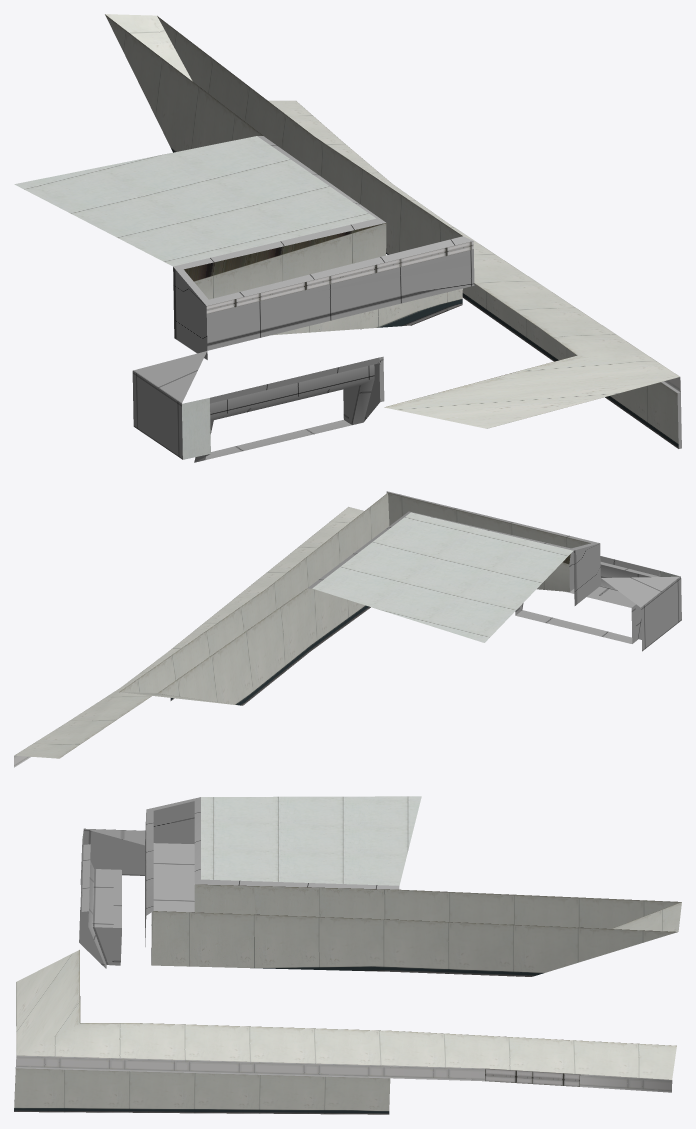
The model's file is sta20_clubext02.FBX.
3 views of the same model, one above another, from view 1: azimuth 30°, elevation 25°; view 2: azimuth 150°, elevation 25°; view 3: azimuth 270°, elevation 25° (orthographic). The views are drawn at different scales.
Visible parts, largest first — view 1: sta20_clubext02; view 2: sta20_clubext02; view 3: sta20_clubext02.
Boxes of the visible parts, box(x1,y1,x2,y2) form: sta20_clubext02: box(14, 14, 681, 462); sta20_clubext02: box(14, 491, 681, 767); sta20_clubext02: box(14, 796, 681, 1114).
Size of the model in its own units: 34.56 by 13.84 by 51.56.
